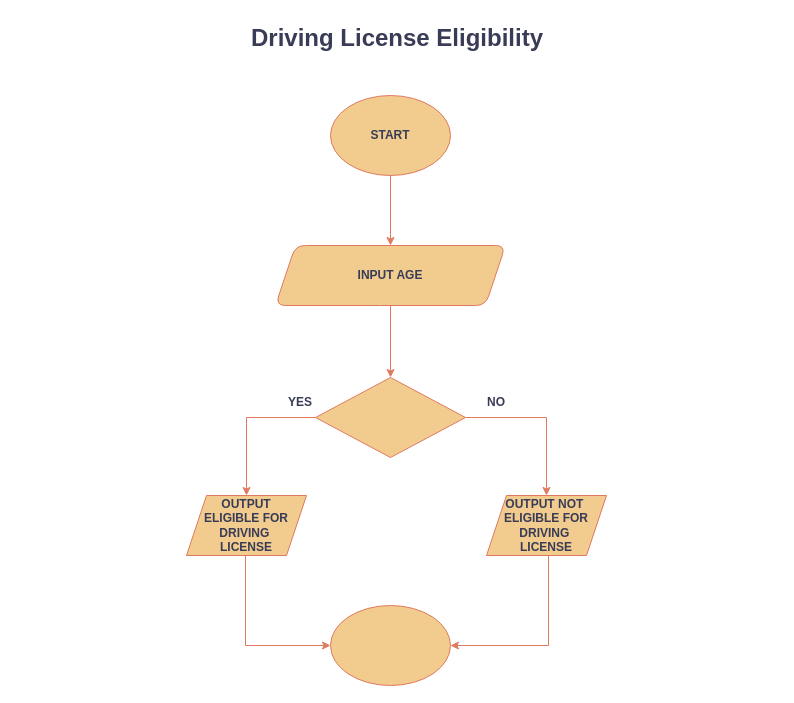
Image size: 794x703. Some labels were removed from this diagram. Each missing label, with the box of its shape:
END: (330, 604, 450, 686)
IF AGE >= 18: (314, 376, 466, 458)
